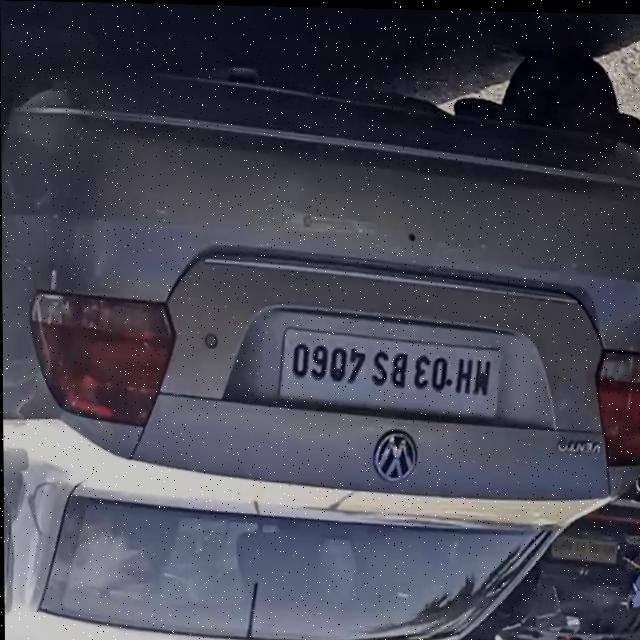plate: (277, 324, 498, 415)
